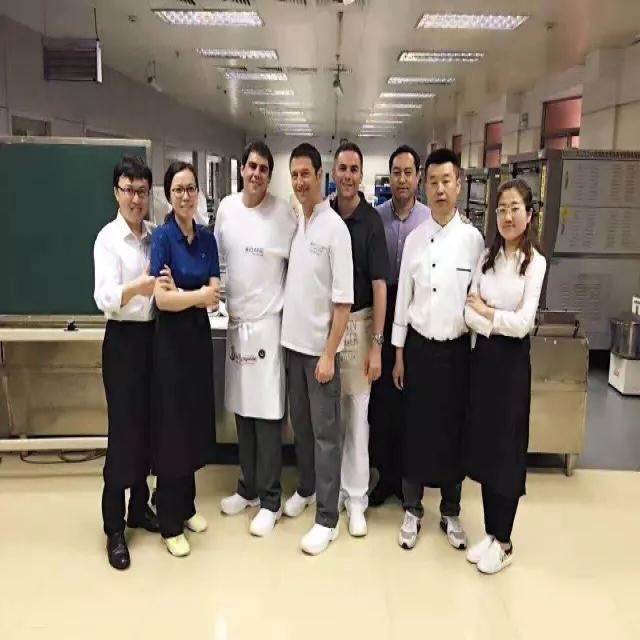body: (320, 140, 475, 515), (389, 142, 489, 554), (461, 172, 552, 577), (211, 137, 301, 540), (276, 140, 357, 559), (146, 153, 224, 559), (91, 152, 163, 573), (327, 140, 391, 540)
